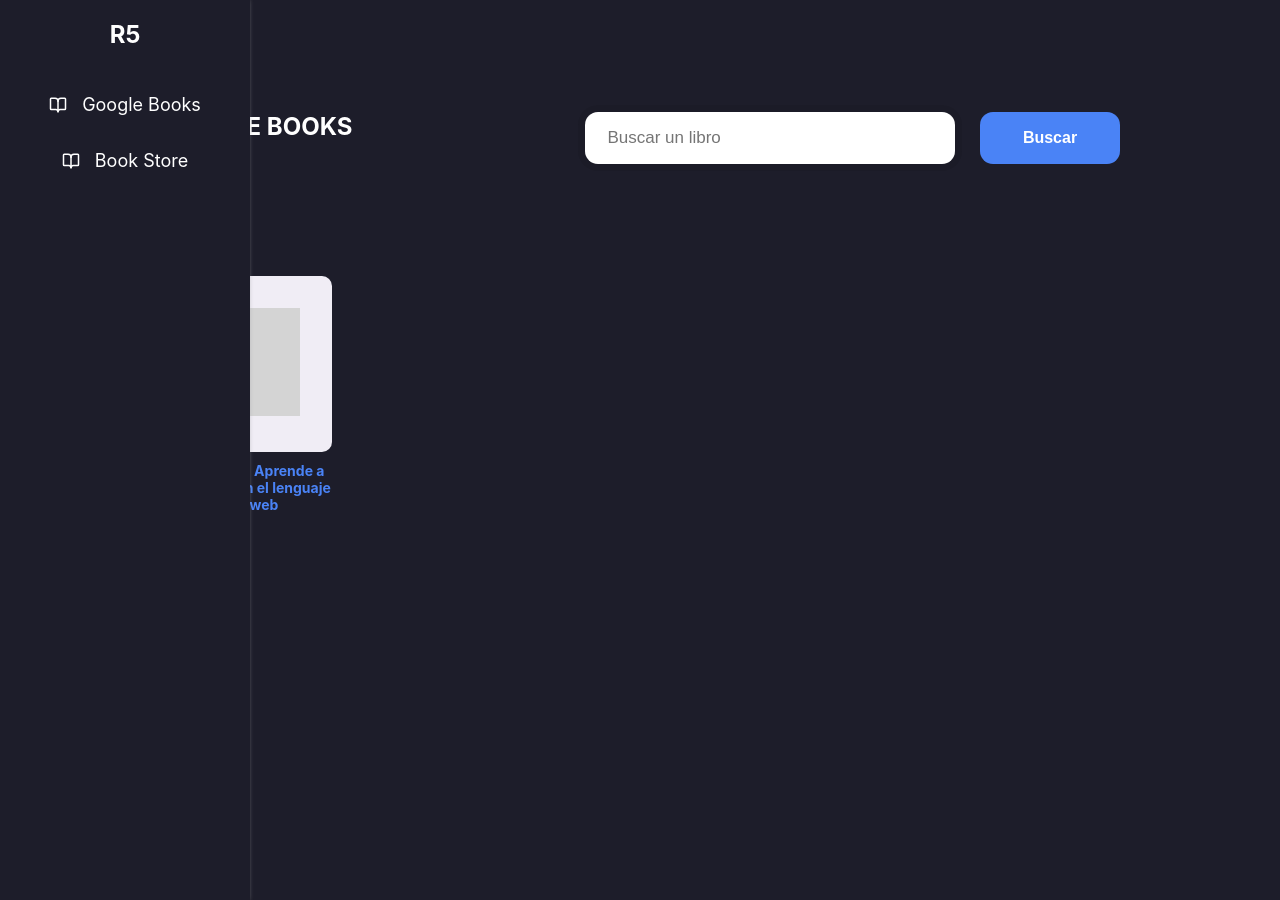
Scenario: App: Should show store books
The width and height of the screenshot is (1280, 900).
Step 1. Click the link "Book Store" → [125, 160], box [62,150,188,171]
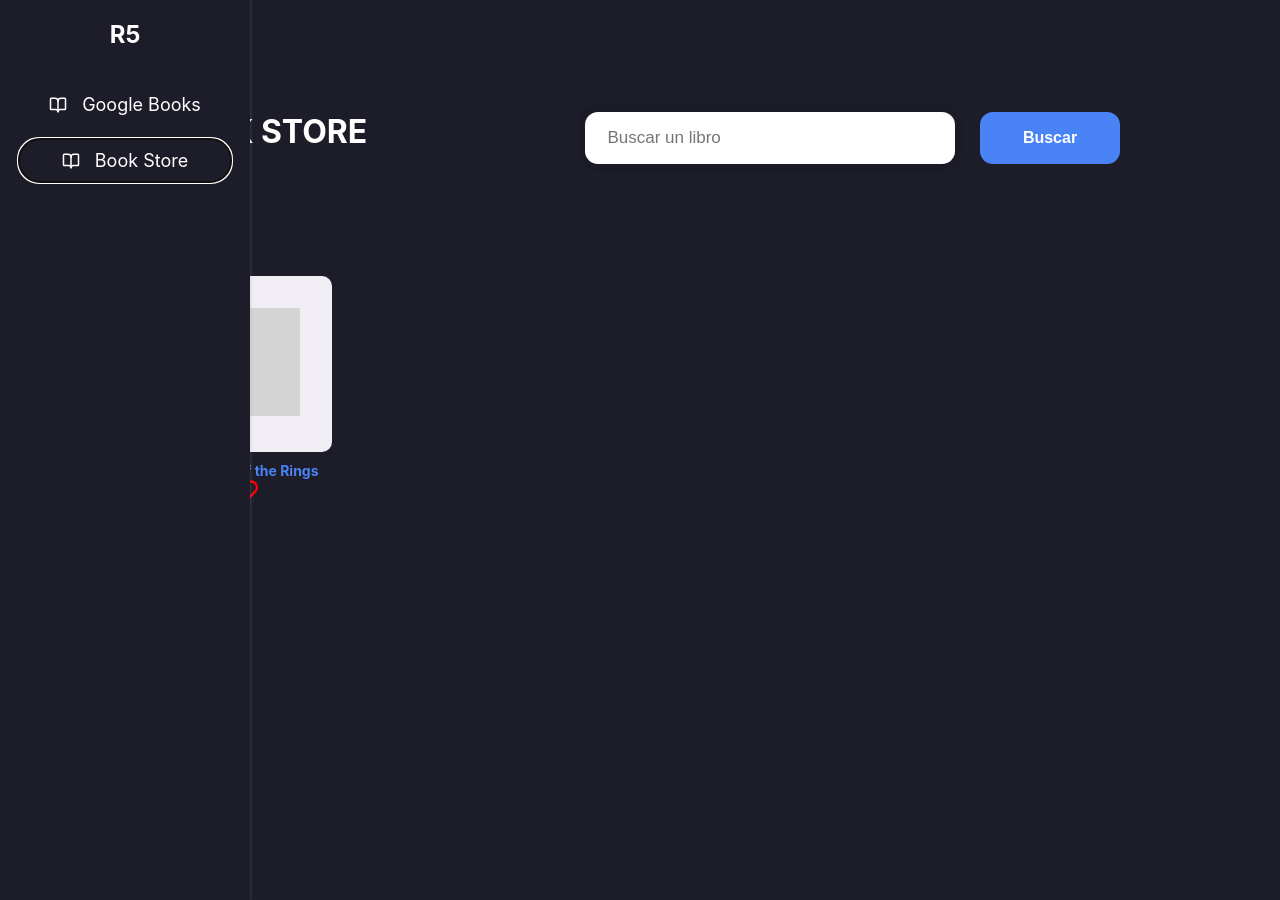
Now the heading "BOOK STORE" is shown, box [160,112,367,151]
Now the text "The Lord of the Rings" is shown, box [173,462,318,479]
